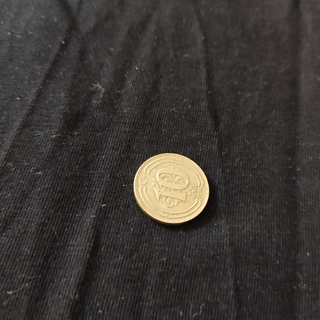10KURUS: (131, 150, 211, 226)
